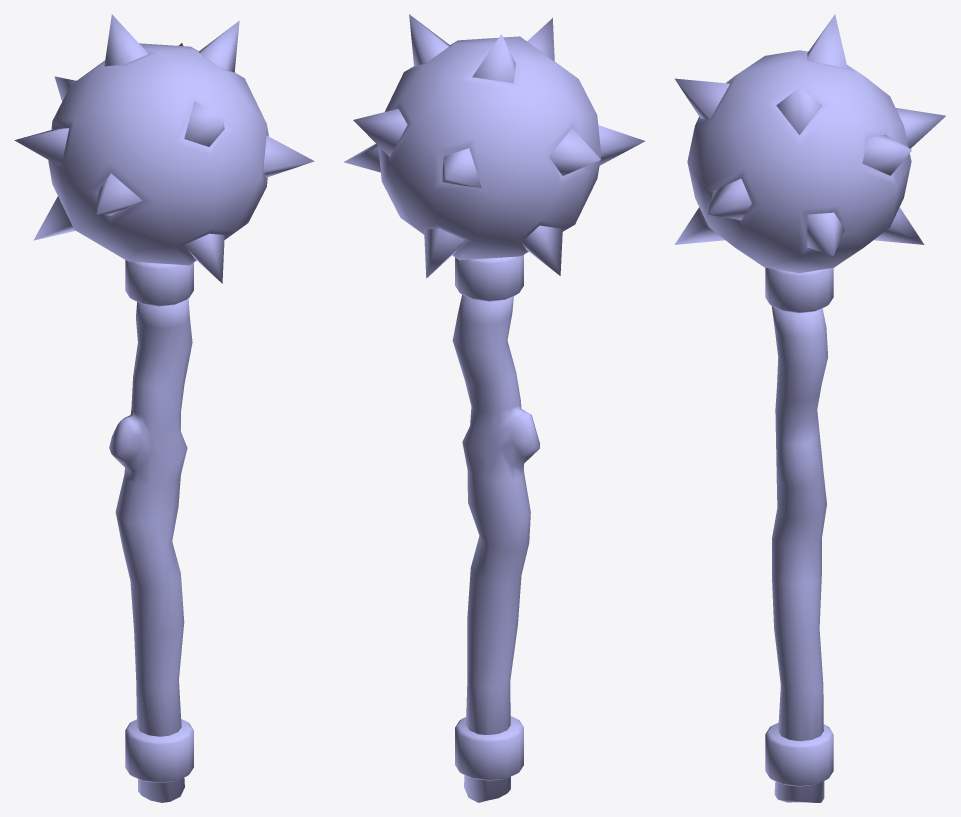
File: Spiked_rusted_mace.fbx
The picture shows the model from 3 angles, left to right: view 1: azimuth 30°, elevation 25°; view 2: azimuth 150°, elevation 25°; view 3: azimuth 270°, elevation 25°; orthographic projection.
Parts seen in each view (by area): view 1: Mace_low, Shaft_low, Rings_low; view 2: Mace_low, Shaft_low, Rings_low; view 3: Mace_low, Shaft_low, Rings_low.
Boxes of the visible parts, x1,y1,x2,y2 form: Mace_low: (14,14,314,283); Shaft_low: (109,298,192,802); Rings_low: (125,260,193,782); Mace_low: (343,14,645,278); Shaft_low: (452,294,539,802); Rings_low: (455,255,523,780); Mace_low: (674,14,945,273); Shaft_low: (771,306,827,802); Rings_low: (765,267,833,786).
Bounding box in the file's own units: 105 × 303 × 96.86.
